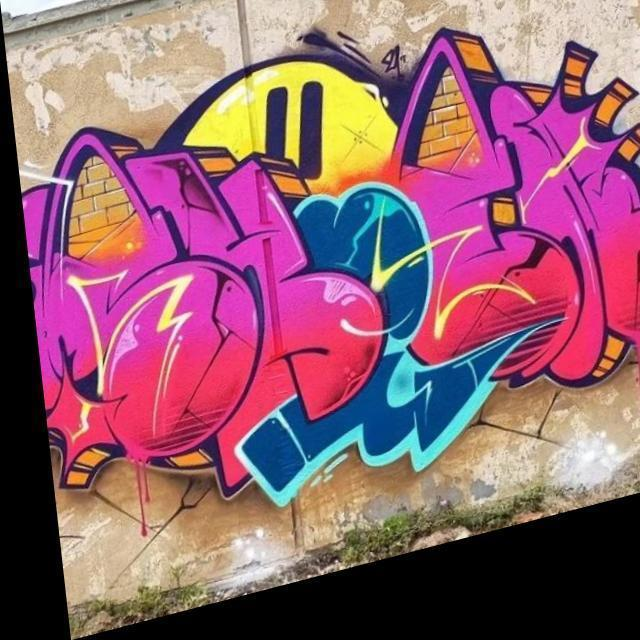nonspitting: (20, 22, 640, 512)
